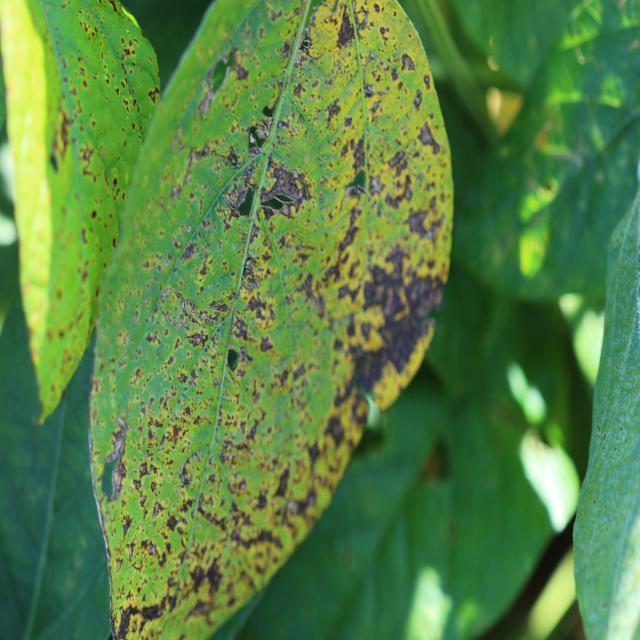Bacterial_Blight: (369, 297, 427, 375), (163, 146, 215, 214), (201, 45, 245, 117), (246, 98, 287, 174), (84, 163, 120, 249), (259, 160, 307, 213), (336, 307, 384, 360), (328, 213, 365, 277), (361, 261, 401, 319), (103, 418, 130, 500), (404, 265, 442, 321), (187, 558, 220, 598), (244, 289, 276, 327), (421, 441, 449, 484), (320, 92, 346, 135), (597, 72, 627, 109), (193, 500, 228, 531), (177, 450, 203, 491), (285, 486, 317, 519), (52, 109, 71, 162), (405, 204, 433, 237), (336, 6, 357, 49), (388, 172, 413, 206), (323, 414, 346, 447), (416, 120, 440, 151), (210, 56, 229, 93), (115, 604, 135, 639), (343, 170, 368, 198), (169, 286, 195, 312), (272, 466, 290, 500), (198, 84, 216, 118), (236, 189, 257, 218), (186, 599, 214, 620), (164, 421, 186, 447), (141, 600, 166, 622), (232, 316, 251, 341), (387, 148, 408, 170), (248, 124, 266, 149), (139, 537, 159, 559), (185, 330, 208, 349), (240, 255, 255, 282), (353, 7, 369, 32), (233, 59, 250, 82), (179, 241, 197, 262), (120, 37, 137, 59), (112, 435, 126, 461), (145, 330, 162, 349), (259, 334, 274, 355), (121, 515, 133, 541), (242, 169, 256, 191), (208, 300, 229, 314), (167, 314, 185, 330), (165, 513, 180, 532), (401, 53, 415, 72), (227, 146, 239, 168), (178, 464, 190, 486), (227, 348, 239, 370), (286, 498, 301, 515), (147, 85, 160, 103), (300, 35, 311, 56), (152, 500, 164, 519), (363, 51, 377, 67), (413, 90, 423, 110), (138, 460, 149, 478), (262, 103, 274, 119), (379, 25, 390, 42), (50, 153, 59, 173), (363, 83, 375, 97), (293, 52, 303, 68), (127, 543, 135, 561), (177, 371, 188, 384), (115, 558, 123, 573), (373, 3, 380, 14), (90, 209, 97, 219), (120, 80, 127, 90), (602, 431, 609, 441), (602, 601, 608, 608), (619, 424, 624, 432), (132, 122, 136, 131), (638, 280, 640, 295), (614, 447, 618, 453), (130, 69, 134, 75), (126, 29, 130, 35), (593, 497, 596, 504)
Soybean: (90, 0, 453, 640)
